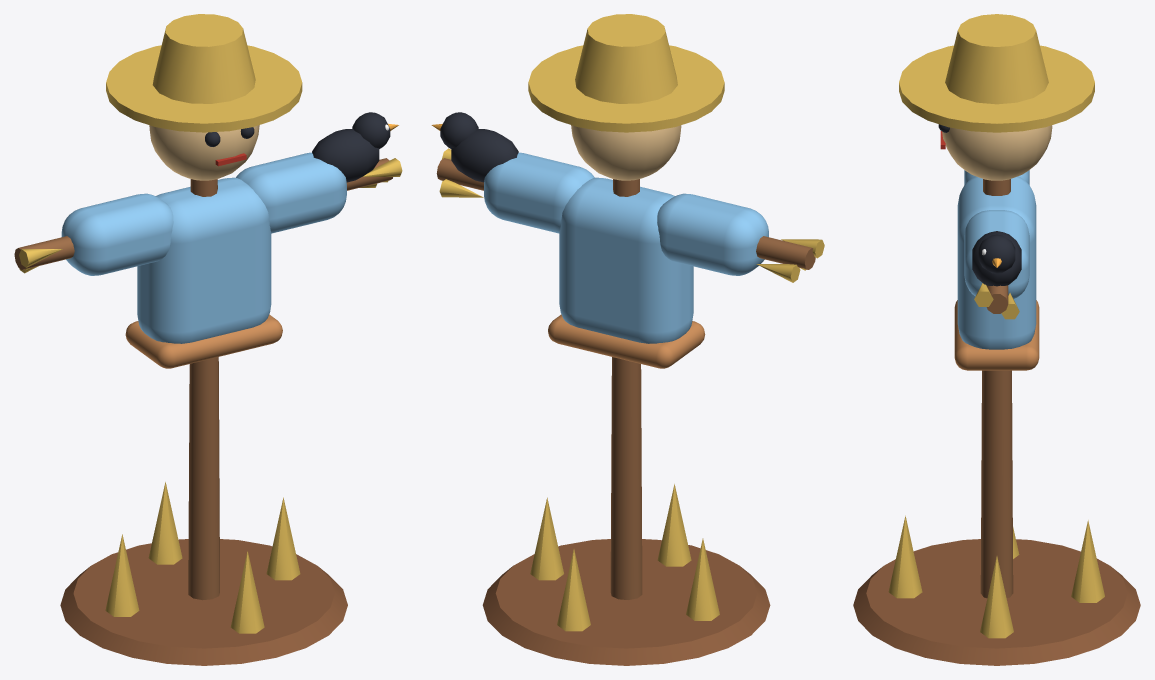
File: sunflowers-scarecrow.glb
3 views of the same model, side by side, from view 1: azimuth 30°, elevation 25°; view 2: azimuth 150°, elevation 25°; view 3: azimuth 270°, elevation 25° (orthographic).
Size of the model in its own units: 1.35 by 1.94 by 0.88.
